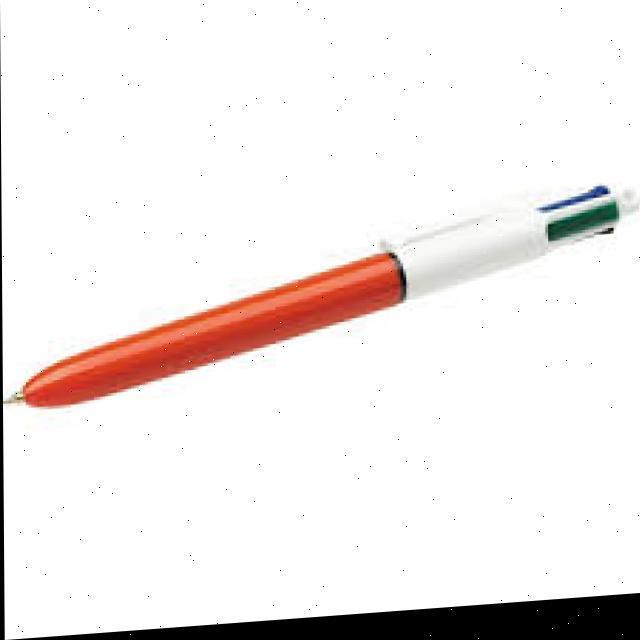Pen - Non Recyclable: (1, 182, 640, 415)
